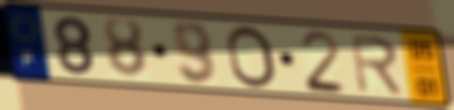2: (297, 29, 347, 96)
8: (102, 16, 147, 82), (52, 15, 98, 78)
9: (170, 19, 219, 88)
O: (224, 23, 280, 91)
R: (347, 34, 406, 97)
